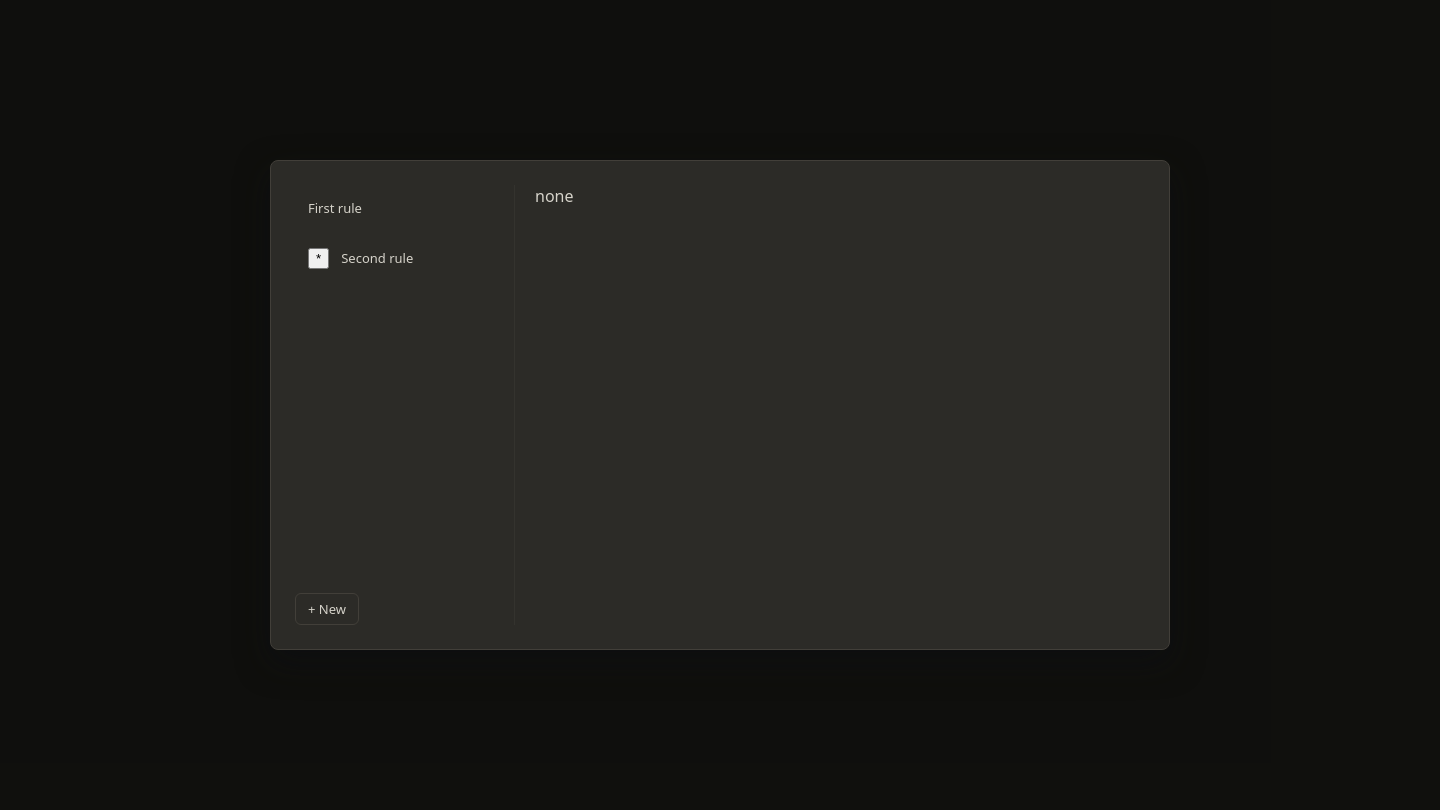
it: ManageDialog.Row › the select button selects its row; data-selected follows the selection
This screenshot has width=1440, height=810.
Click the button with test id "rule-select-b": point(413, 258) [329,236,497,280]
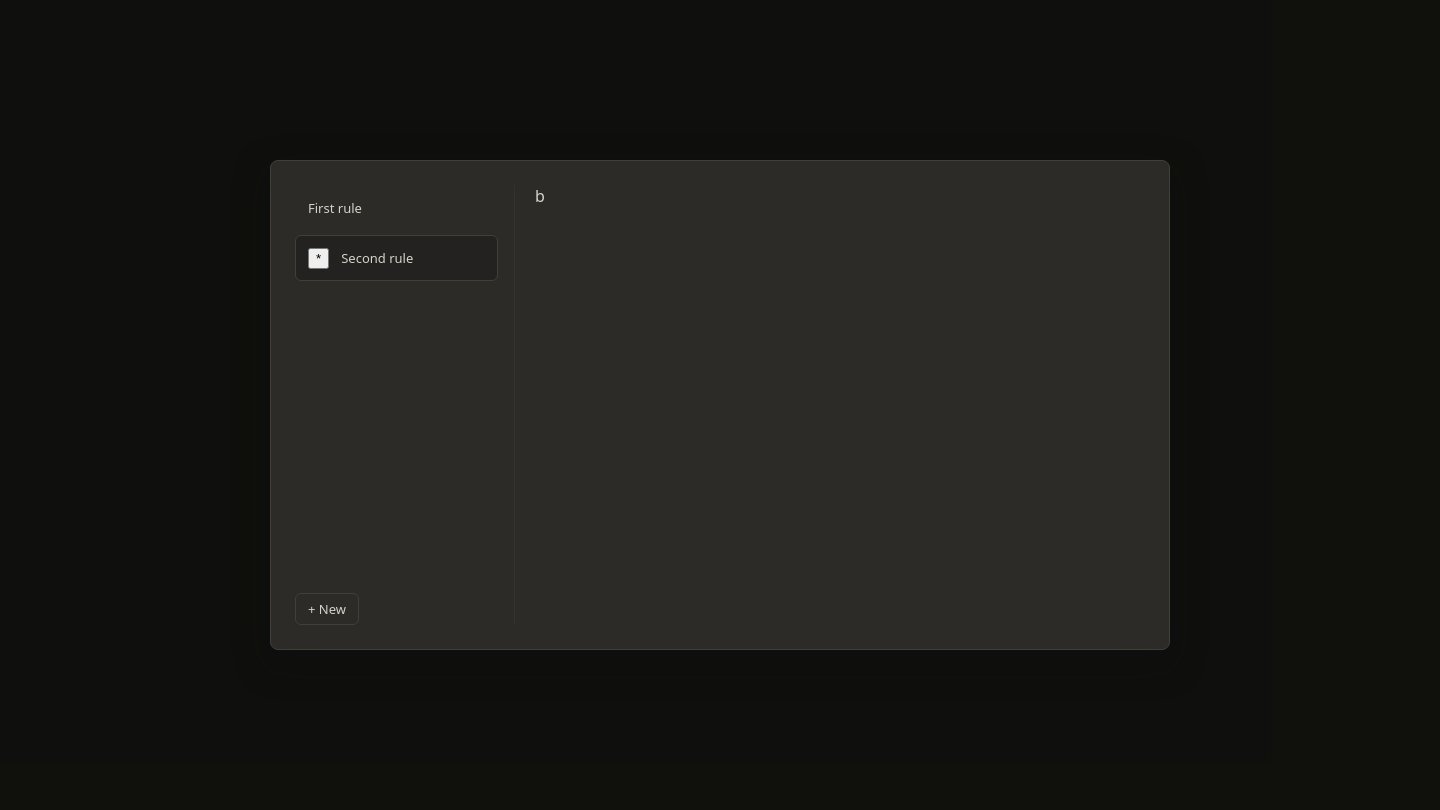
expect the text with test id "probe-selected" reads "b": met, box [535,185,545,207]
